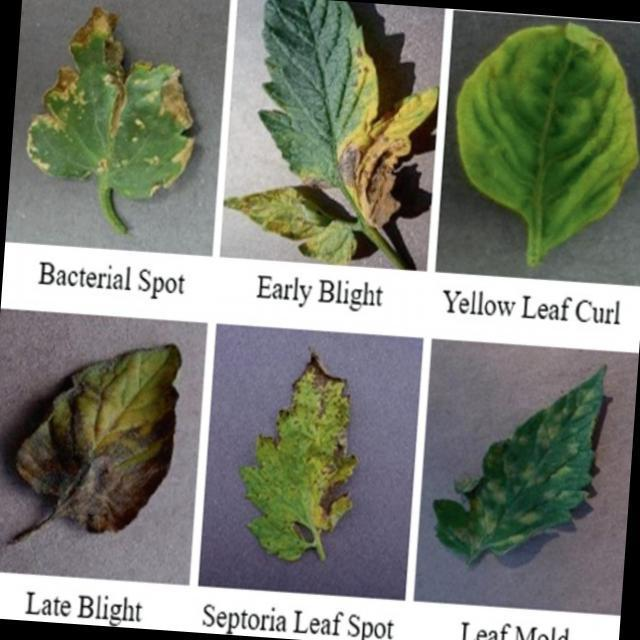Mosaic Virus: (456, 352, 606, 592)
Septoria: (240, 342, 369, 576)
Yellow Curl Virus: (441, 15, 640, 274)
